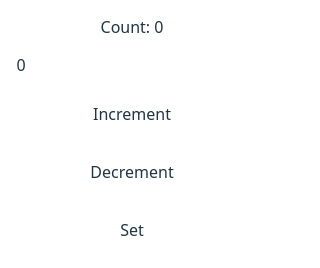
Test: test counter component › set Count by updating the input
The width and height of the screenshot is (320, 268).
In the number field: point(132, 65) [16,53,248,77], type "10"
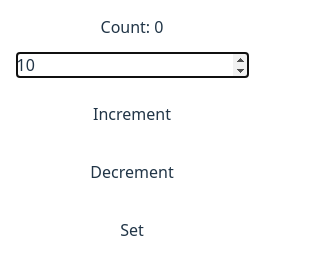
Click the button "Set": point(132, 230) [16,209,248,251]
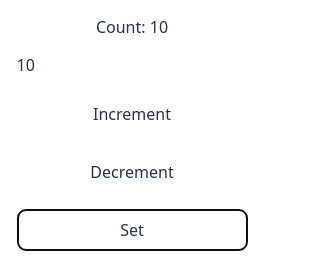
Check: the heading shows "10", box [150,16,168,38]
Click the button "Decrement": point(132, 172) [16,151,248,193]
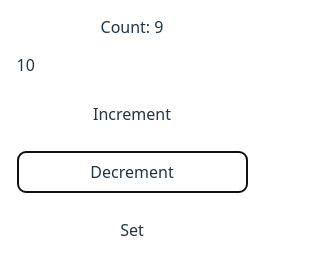
Check: the heading shows "9", box [154,16,164,38]
